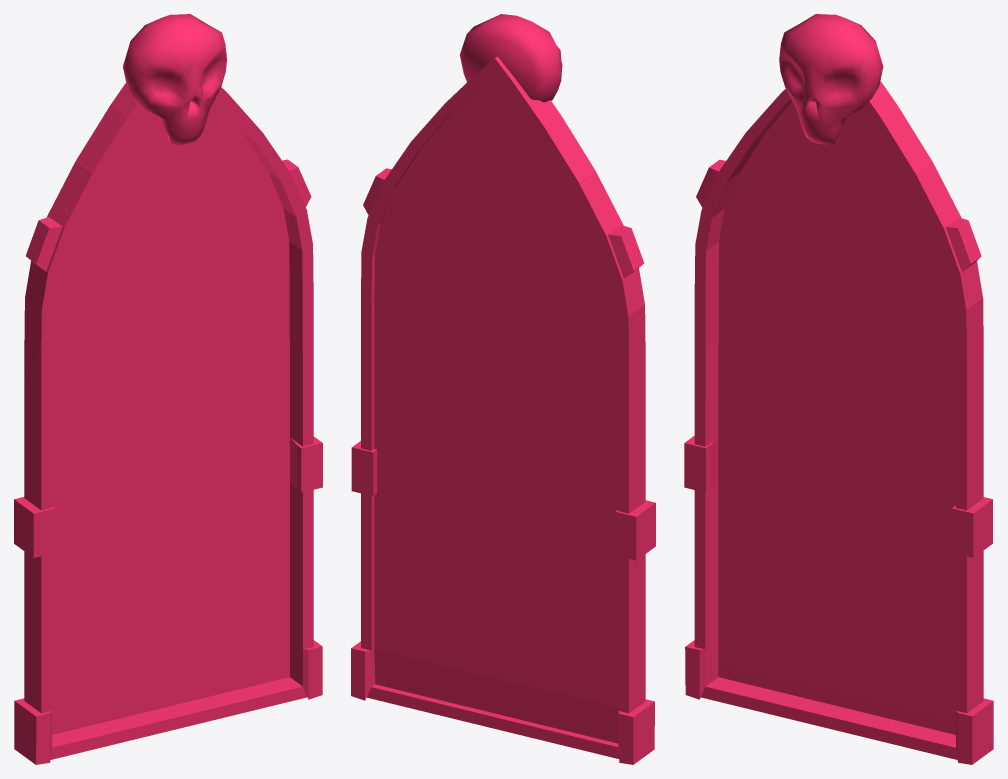
File: SpawnEffect_Pink.fbx
3 views of the same model, side by side, from view 1: azimuth 30°, elevation 25°; view 2: azimuth 150°, elevation 25°; view 3: azimuth 330°, elevation 25° (orthographic).
Visible parts, largest first — view 1: spawner_door; view 2: spawner_door; view 3: spawner_door.
Part boxes in pixels (x1,y1,x2,y2): spawner_door: (14, 14, 322, 764); spawner_door: (351, 14, 655, 764); spawner_door: (684, 14, 993, 764).
Size of the model in its own units: 4.61 by 10.83 by 1.07.
